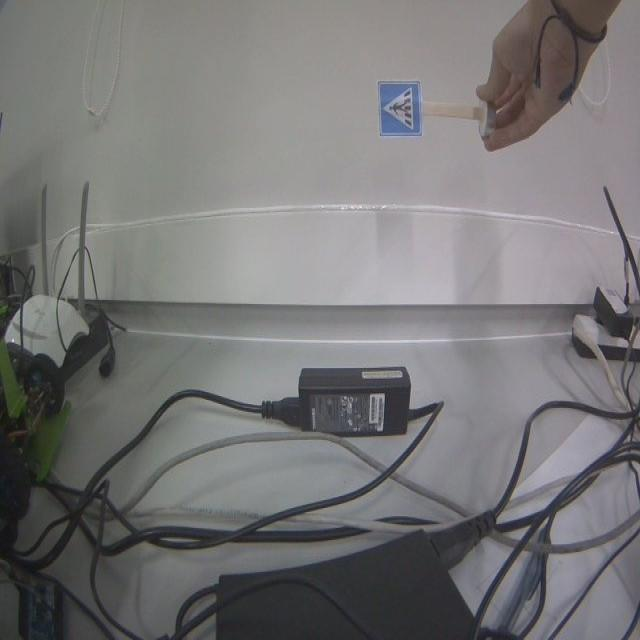Rambu Penyebrangan: (376, 79, 421, 137)
